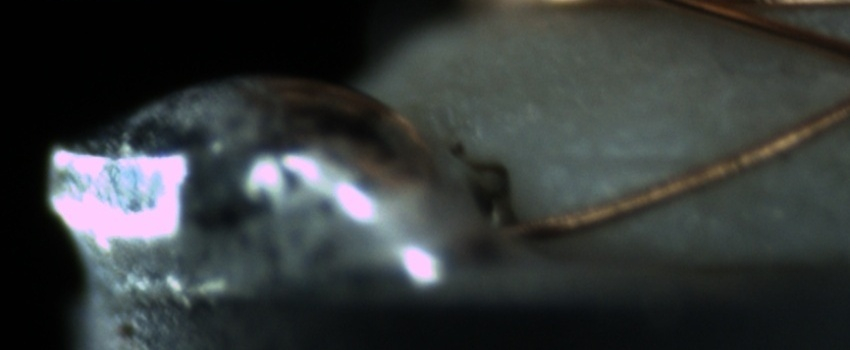DL: (551, 124, 702, 190)
